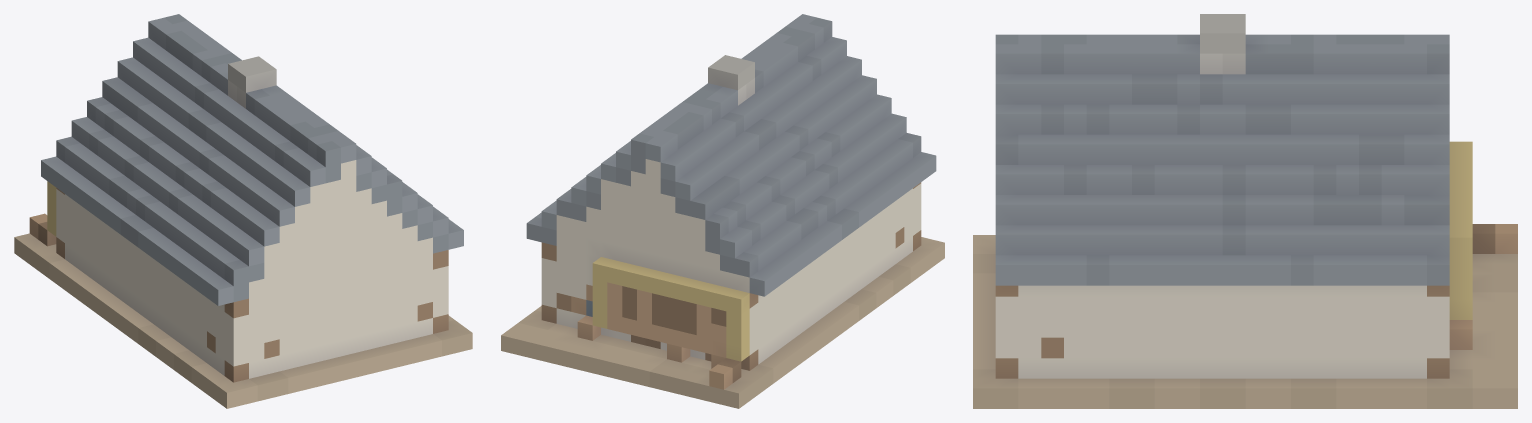
File: salt_works.lite.glb
3 views of the same model, side by side, from view 1: azimuth 30°, elevation 25°; view 2: azimuth 150°, elevation 25°; view 3: azimuth 270°, elevation 25° (orthographic). The views are drawn at different scales.
Parts seen in each view (by area): view 1: salt_works; view 2: salt_works; view 3: salt_works.
Part boxes in pixels (x1,y1,x2,y2): salt_works: [14, 14, 472, 408]; salt_works: [501, 14, 944, 408]; salt_works: [973, 14, 1517, 408].
Size of the model in its own units: 4 by 3.75 by 6.
